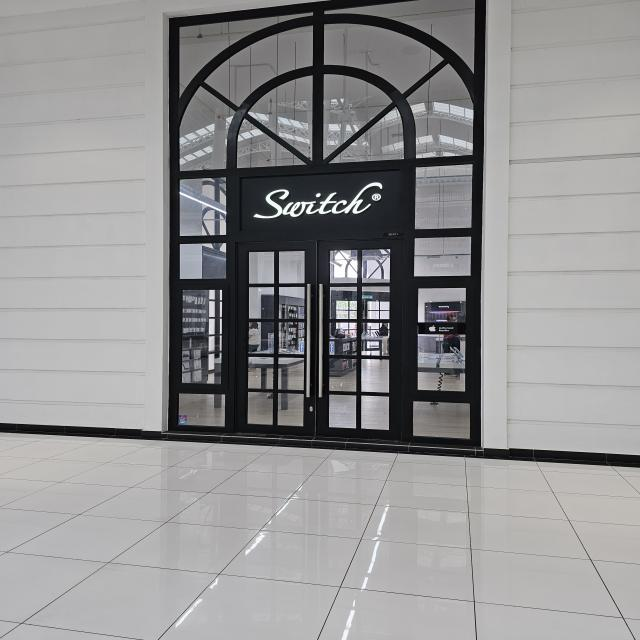door: (236, 242, 403, 437)
footpath: (0, 437, 640, 640)
